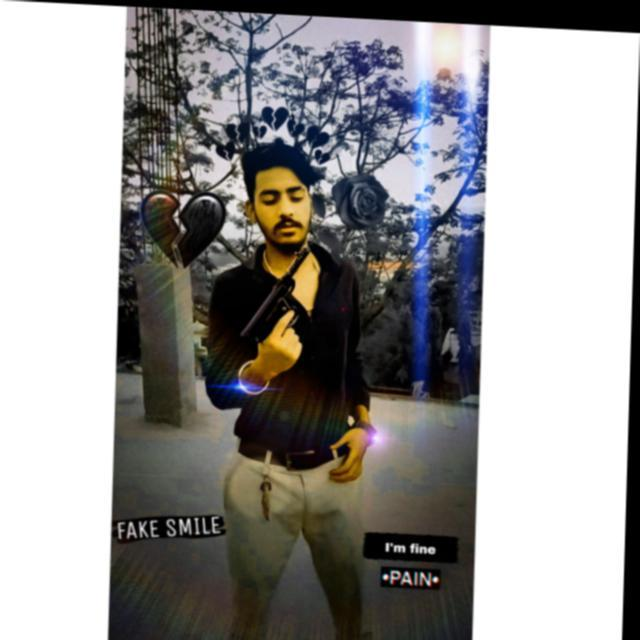weapon: (238, 238, 318, 350)
